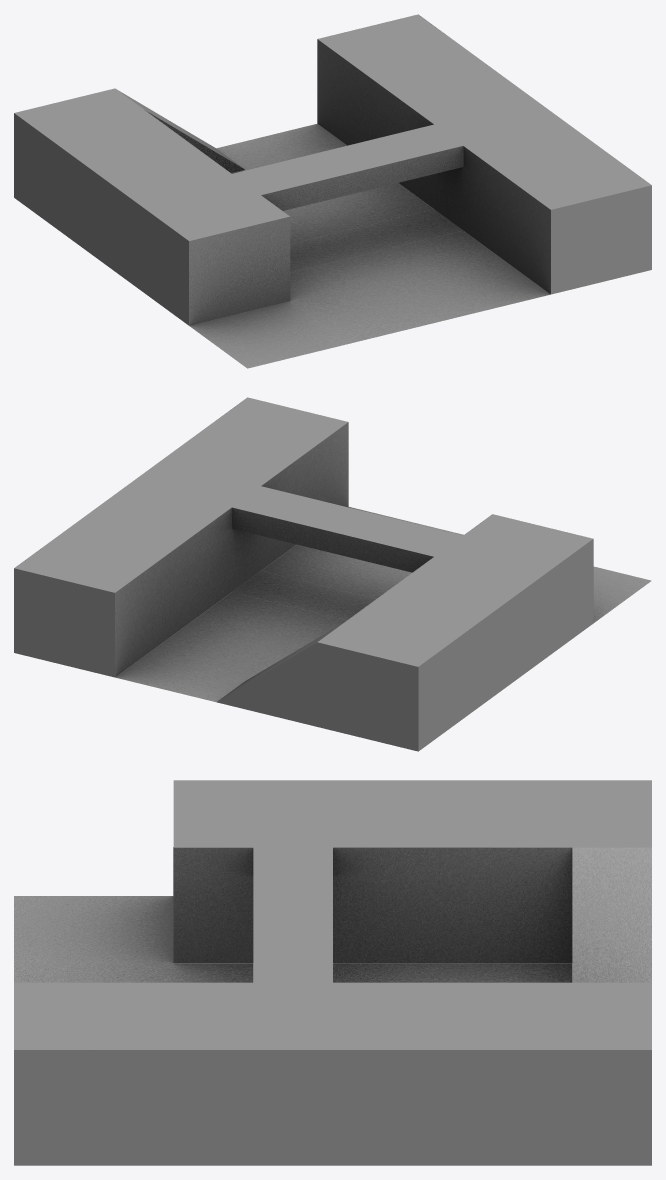
Rendered from level.obj.
3 renders of one model, top to bottom at view 1: azimuth 30°, elevation 25°; view 2: azimuth 150°, elevation 25°; view 3: azimuth 270°, elevation 25°, orthographic. The views are drawn at different scales.
Parts seen in each view (by area): view 1: Plane; view 2: Plane; view 3: Plane.
Boxes of the visible parts, x1,y1,x2,y2 form: Plane: (14, 14, 651, 368); Plane: (14, 397, 651, 751); Plane: (14, 780, 651, 1165).
Bounding box in the file's own units: 20 × 4 × 20.
Materials: 1 (1 with a texture image).
